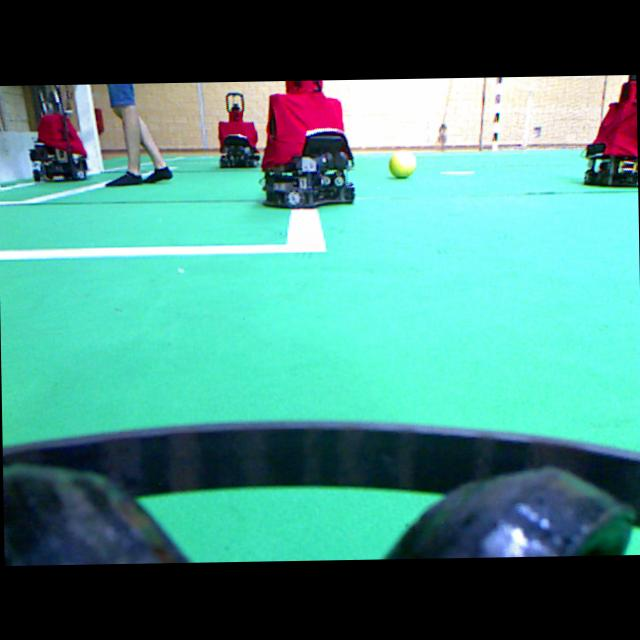ball: (286, 208, 325, 250), (388, 151, 415, 177)
